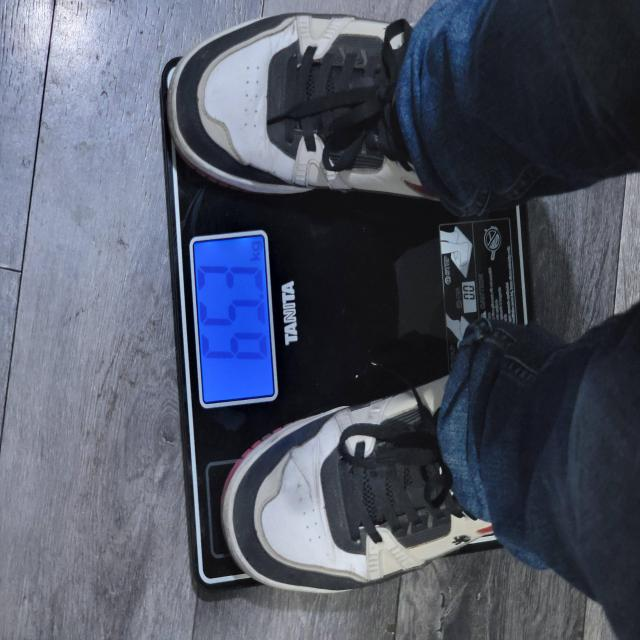ws: (189, 230, 279, 409)
